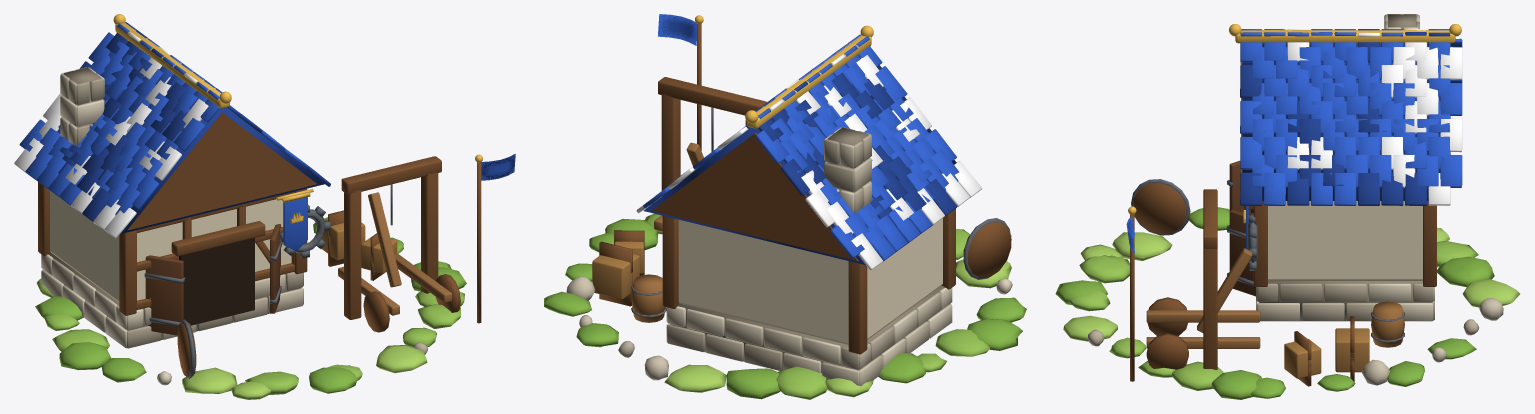
Rendered from b_workshop.glb.
3 renders of one model, left to right at view 1: azimuth 30°, elevation 25°; view 2: azimuth 150°, elevation 25°; view 3: azimuth 270°, elevation 25°, orthographic. The views are drawn at different scales.
Parts seen in each view (by area): view 1: root_matte#7a4e2a, hallRoofPivot_team, hallRoofGableEnd, hallUpper, hallRoofPivot_team_dark, doorway, hallRoofPivot_team_light, root_matte#7fb243, root_matte#94c252, root_matte#6a4226, root_matte#c9bea8, root_matte#a8d060 (+9 smaller); view 2: hallUpper, hallRoofPivot_team, root_matte#7a4e2a, hallRoofGableEnd, root_matte#7fb243, hallRoofPivot_team_dark, root_matte#c9bea8, hallRoofPivot_team_light, root_matte#d6ccb6, root_matte#94c252, root_matte#a8d060, root_matte#a99e8a (+7 smaller); view 3: hallRoofPivot_team, hallUpper, root_matte#7a4e2a, hallRoofPivot_team_light, hallRoofPivot_team_dark, root_matte#7fb243, root_matte#94c252, root_matte#a8d060, root_matte#b8ad98, root_matte#9a6a3c, hallRoofPivot_gold#f0bd4c, root_matte#a8783e (+7 smaller).
Part boxes in pixels (x1,y1,x2,y2): root_matte#7a4e2a: (38,156,481,376); hallRoofPivot_team: (19,23,308,215); hallRoofGableEnd: (127,112,317,230); hallUpper: (50,191,291,301); hallRoofPivot_team_dark: (58,22,330,233); doorway: (179,238,254,325); hallRoofPivot_team_light: (14,32,208,238); root_matte#7fb243: (35,217,466,393); root_matte#94c252: (44,291,464,394); root_matte#6a4226: (145,224,280,335); root_matte#c9bea8: (41,70,303,339); root_matte#a8d060: (36,278,427,399); hallUpper: (678,218,942,344); hallRoofPivot_team: (643,34,959,261); root_matte#7a4e2a: (599,23,1011,354); hallRoofGableEnd: (652,133,858,261); root_matte#7fb243: (544,219,1026,399); hallRoofPivot_team_dark: (643,65,957,265); root_matte#c9bea8: (566,143,940,386); hallRoofPivot_team_light: (636,54,982,270); root_matte#d6ccb6: (666,127,1012,366); root_matte#94c252: (645,213,989,399); root_matte#a8d060: (664,249,1011,397); root_matte#a99e8a: (667,127,951,370); hallRoofPivot_team: (1240,29,1462,205); hallUpper: (1268,201,1422,280); root_matte#7a4e2a: (1130,182,1436,386); hallRoofPivot_team_light: (1240,29,1462,205); hallRoofPivot_team_dark: (1240,29,1450,205); root_matte#7fb243: (1055,207,1494,399); root_matte#94c252: (1068,241,1478,390); root_matte#a8d060: (1063,227,1519,341); root_matte#b8ad98: (1087,14,1479,346); root_matte#9a6a3c: (1146,248,1260,348); hallRoofPivot_gold#f0bd4c: (1229,24,1461,43); root_matte#a8783e: (1284,328,1369,378).
Bounding box in the file's own units: 3.31 × 2.05 × 3.27.
